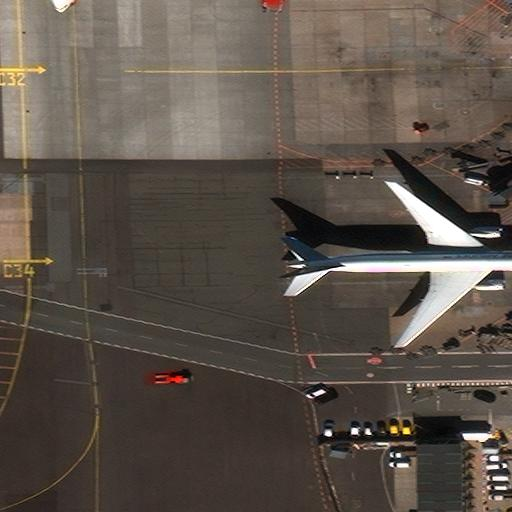Large Civil Transport: (285, 181, 511, 347)
